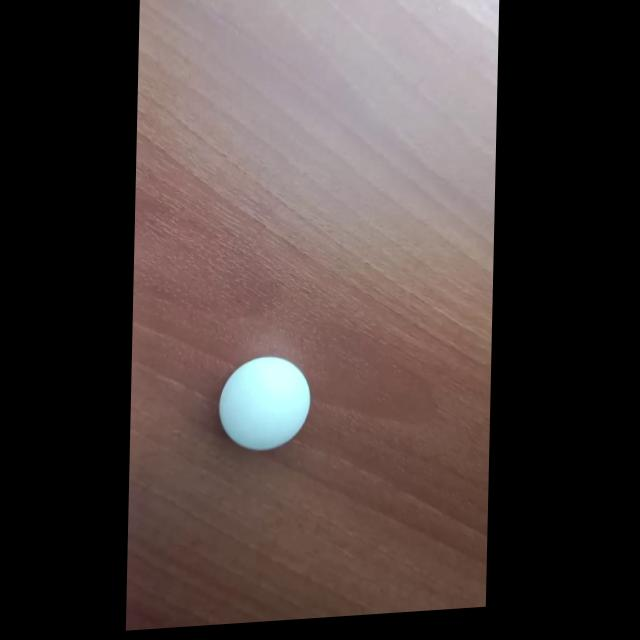white ball: (218, 353, 312, 455)
